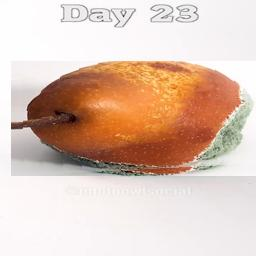Pear Rotten: (11, 61, 256, 176)
